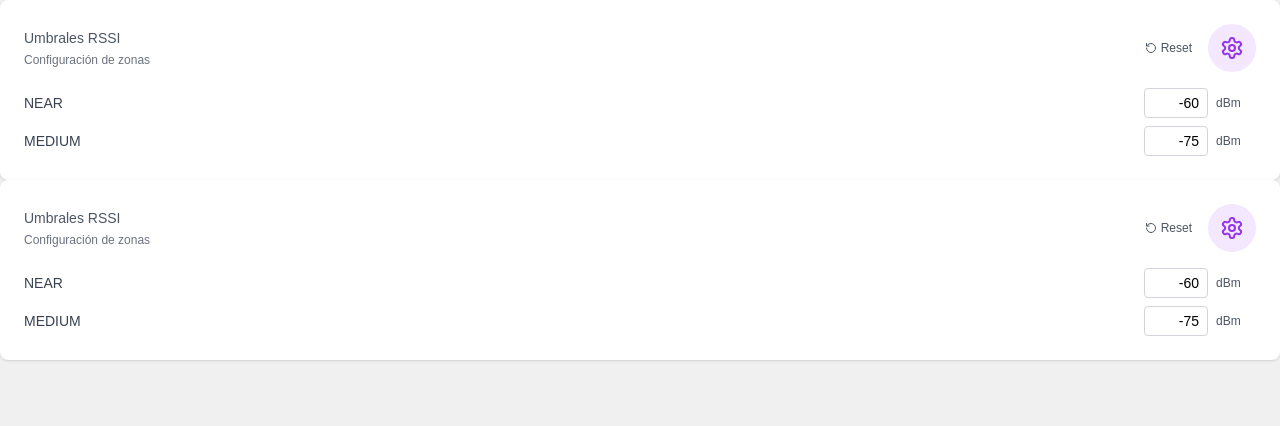
Test case: ThresholdSettings Component › debe manejar errores al cargar y resetear umbrales
What coordinates should you click on to do the following:
click the 1st button titled "resetear a valores por defecto"
I would click on:
 (1168, 48)
Its box is [1137,36,1200,60].
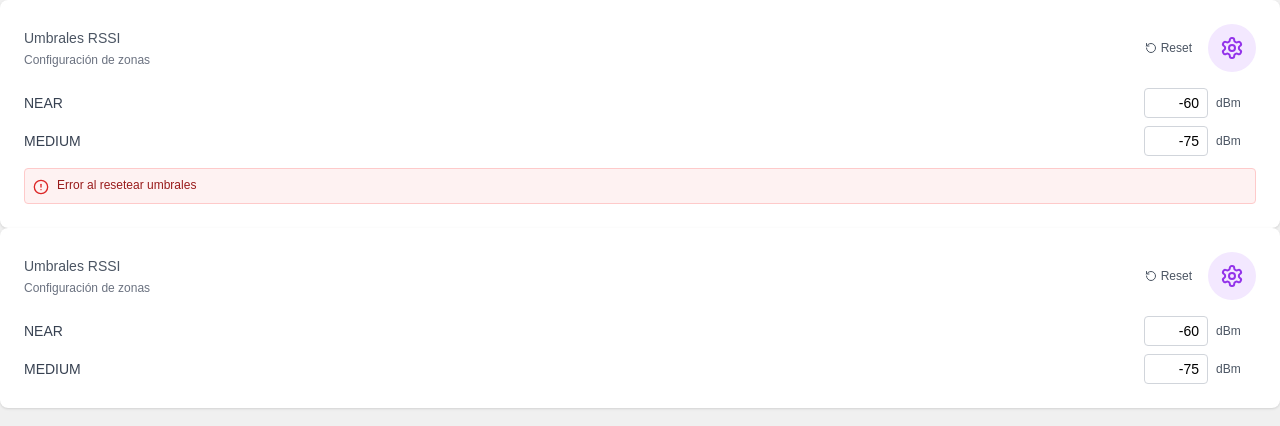
Expected: the text "Error al resetear umbrales" is shown, [57,177,196,193]
